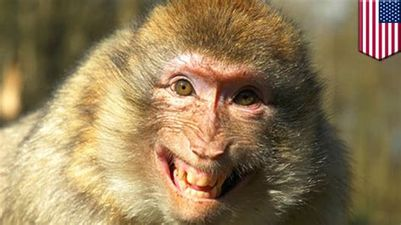monkey: (40, 2, 392, 225)
